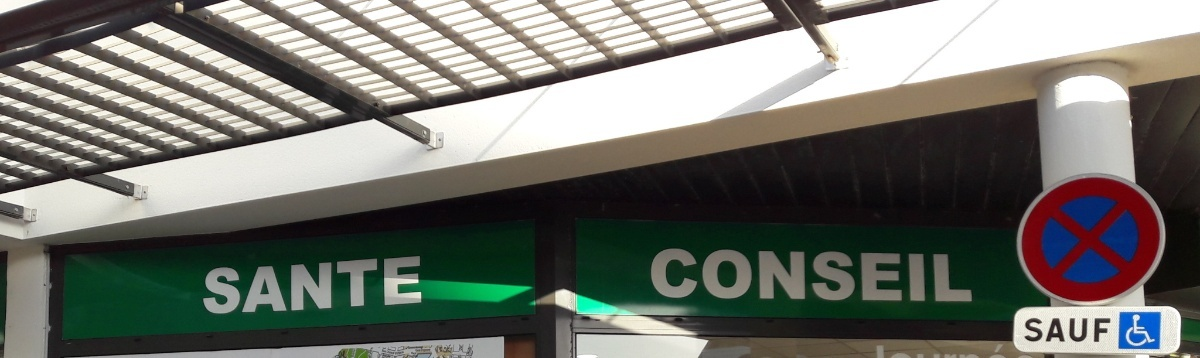text: (209, 253, 224, 316), (225, 253, 240, 316), (241, 253, 256, 316), (257, 253, 272, 316), (273, 253, 288, 316), (289, 253, 304, 316), (305, 253, 320, 316), (321, 253, 336, 316), (337, 253, 352, 316), (353, 253, 368, 316), (369, 253, 384, 316), (385, 253, 400, 316), (401, 253, 416, 316), (657, 249, 672, 305), (673, 249, 688, 305), (689, 249, 704, 305), (705, 249, 720, 305), (721, 249, 736, 305), (737, 249, 752, 305), (753, 249, 768, 305), (769, 249, 784, 305), (785, 249, 800, 305), (801, 249, 816, 305), (817, 249, 832, 305), (833, 249, 848, 305), (849, 249, 864, 305), (865, 249, 880, 305), (881, 249, 896, 305), (897, 249, 912, 305), (913, 249, 928, 305), (929, 249, 944, 305), (945, 249, 960, 305), (961, 249, 974, 305), (417, 253, 424, 316), (1025, 317, 1040, 343), (1041, 317, 1056, 343), (1057, 317, 1072, 343), (1073, 317, 1088, 343), (1089, 317, 1104, 343), (203, 253, 208, 316), (651, 249, 656, 305), (1105, 317, 1111, 343), (385, 349, 395, 356), (417, 349, 431, 352), (395, 351, 400, 356), (411, 351, 416, 355), (401, 351, 404, 356), (382, 349, 384, 356), (415, 349, 416, 352)
